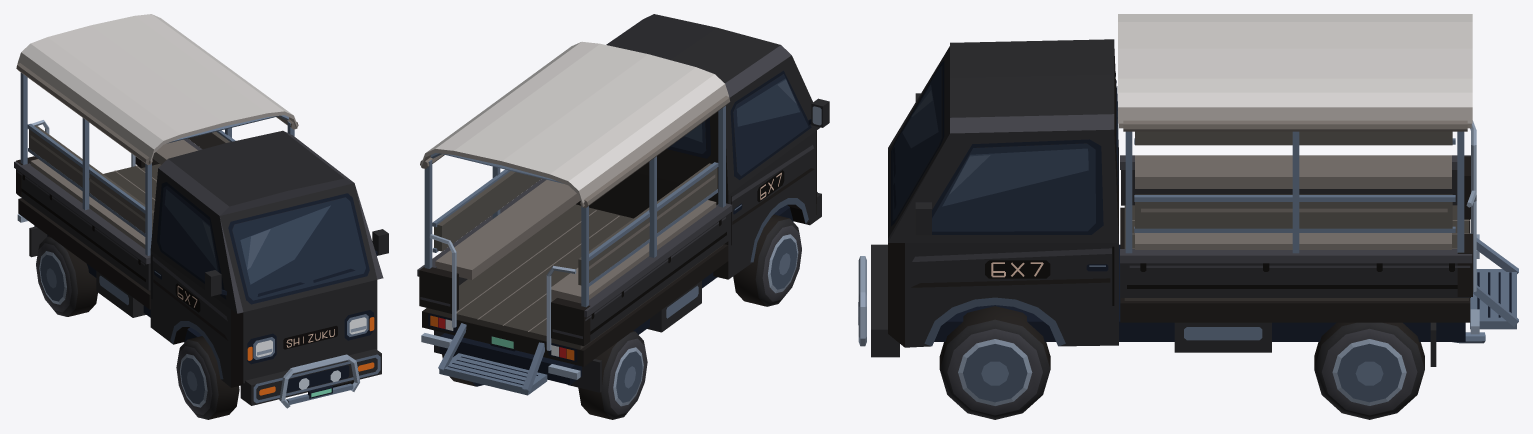
File: multicab-black.glb
3 views of the same model, side by side, from view 1: azimuth 30°, elevation 25°; view 2: azimuth 150°, elevation 25°; view 3: azimuth 270°, elevation 25° (orthographic). The views are drawn at different scales.
Visible parts, largest first — view 1: Shizuku 6x7 - Black; view 2: Shizuku 6x7 - Black; view 3: Shizuku 6x7 - Black.
Part boxes in pixels (box(x1,y1,x2,y2)): Shizuku 6x7 - Black: box(14, 14, 388, 419); Shizuku 6x7 - Black: box(417, 14, 829, 419); Shizuku 6x7 - Black: box(858, 14, 1518, 419).
Size of the model in its own units: 1.71 by 2.24 by 4.13.
Materials: 1 (1 with a texture image).
